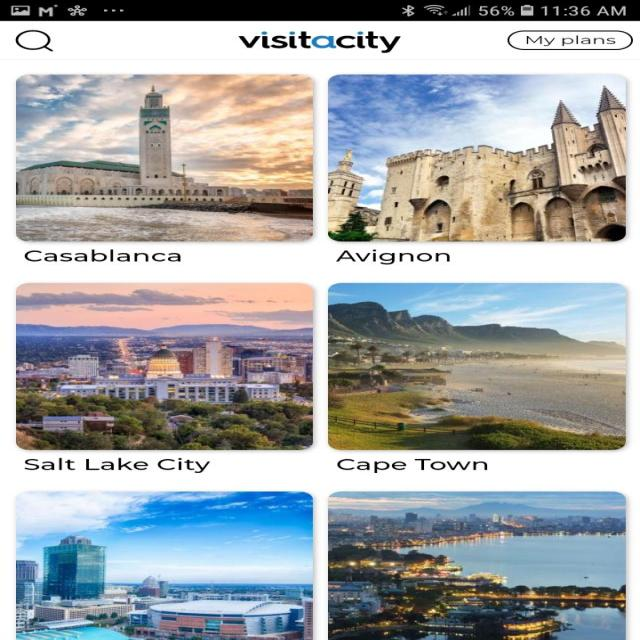Icon: (15, 29, 54, 52)
Image: (327, 282, 626, 450), (327, 74, 626, 242), (15, 282, 313, 450), (15, 74, 313, 242), (327, 491, 625, 639), (16, 491, 313, 639), (237, 31, 401, 53)
Text: (24, 457, 211, 473), (336, 458, 487, 473), (23, 249, 182, 262), (335, 249, 450, 265)
TextButton: (506, 30, 633, 50)
